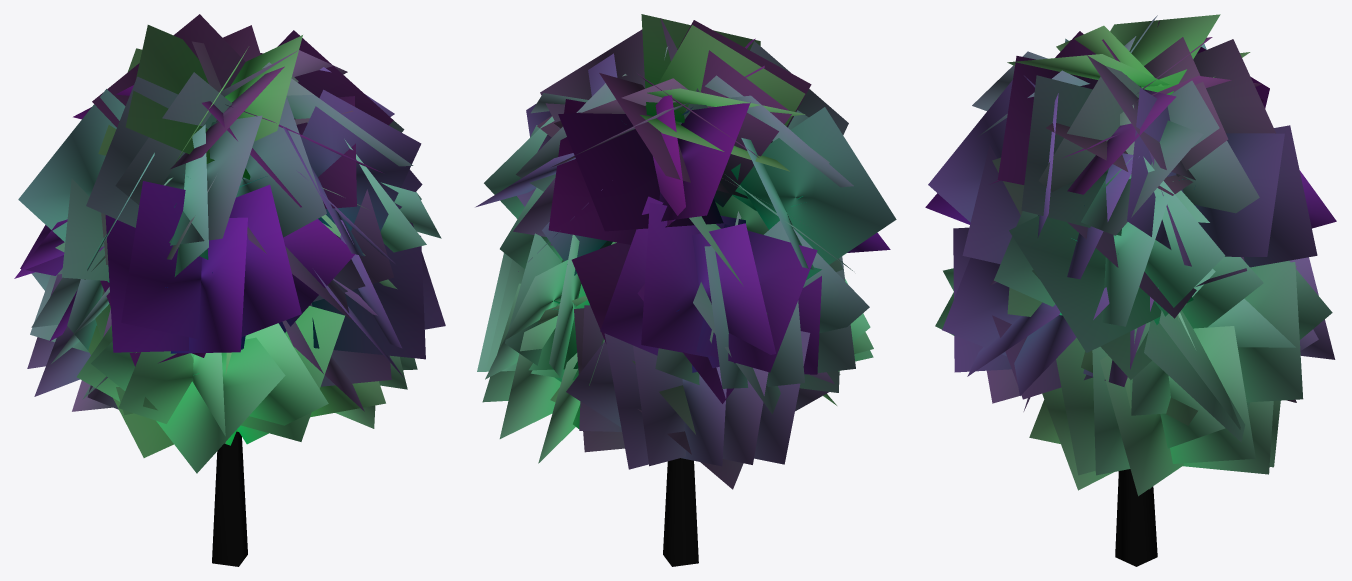
Rendered from Big_Tree.fbx.
The picture shows the model from 3 angles, left to right: view 1: azimuth 30°, elevation 25°; view 2: azimuth 150°, elevation 25°; view 3: azimuth 270°, elevation 25°; orthographic projection. The views are drawn at different scales.
Visible parts, largest first — view 1: Tree_1, Tree_0; view 2: Tree_1, Tree_0; view 3: Tree_1, Tree_0.
Boxes of the visible parts, x1=… form: Tree_1: x1=14, y1=14, x2=445, y2=473; Tree_0: x1=165, y1=174, x2=265, y2=566; Tree_1: x1=475, y1=14, x2=896, y2=489; Tree_0: x1=552, y1=196, x2=804, y2=566; Tree_1: x1=925, y1=14, x2=1336, y2=496; Tree_0: x1=1071, y1=179, x2=1194, y2=566.
Bounding box in the file's own units: 300 × 410 × 287.
